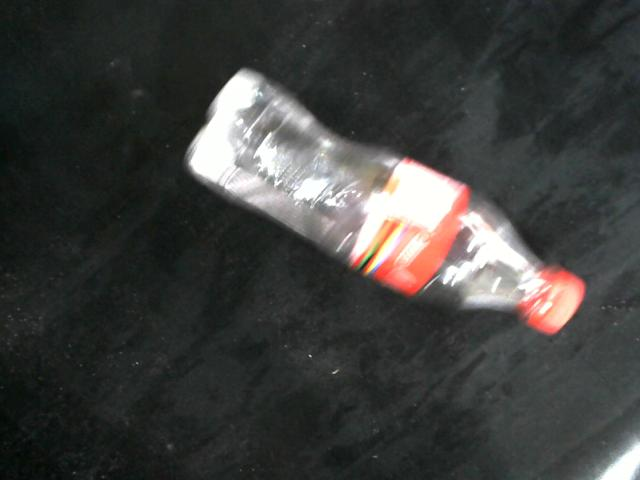bottle: (183, 66, 588, 336)
